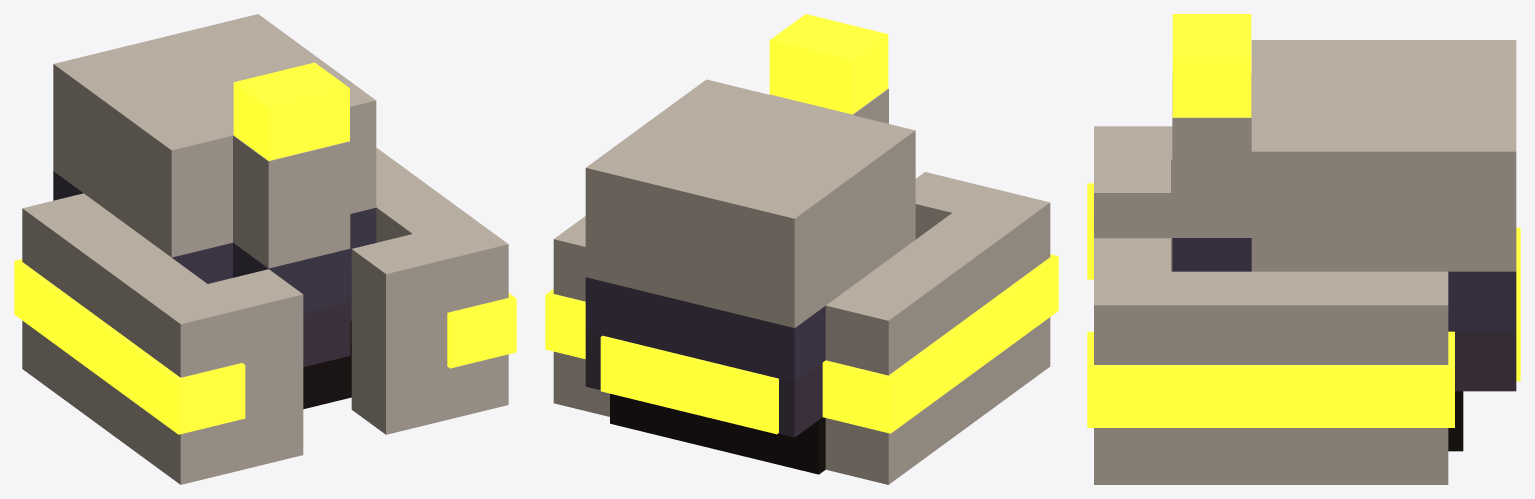
The model's file is player.glb.
3 renders of one model, left to right at view 1: azimuth 30°, elevation 25°; view 2: azimuth 150°, elevation 25°; view 3: azimuth 270°, elevation 25°, orthographic. The views are drawn at different scales.
Visible parts, largest first — view 1: Cube.003; view 2: Cube.003; view 3: Cube.003.
Part boxes in pixels (left/top/right/bottom): Cube.003: left=14, top=14, right=516, bottom=484; Cube.003: left=545, top=14, right=1058, bottom=484; Cube.003: left=1087, top=14, right=1520, bottom=484.
Bounding box in the file's own units: 4.04 × 3.67 × 4.01.
